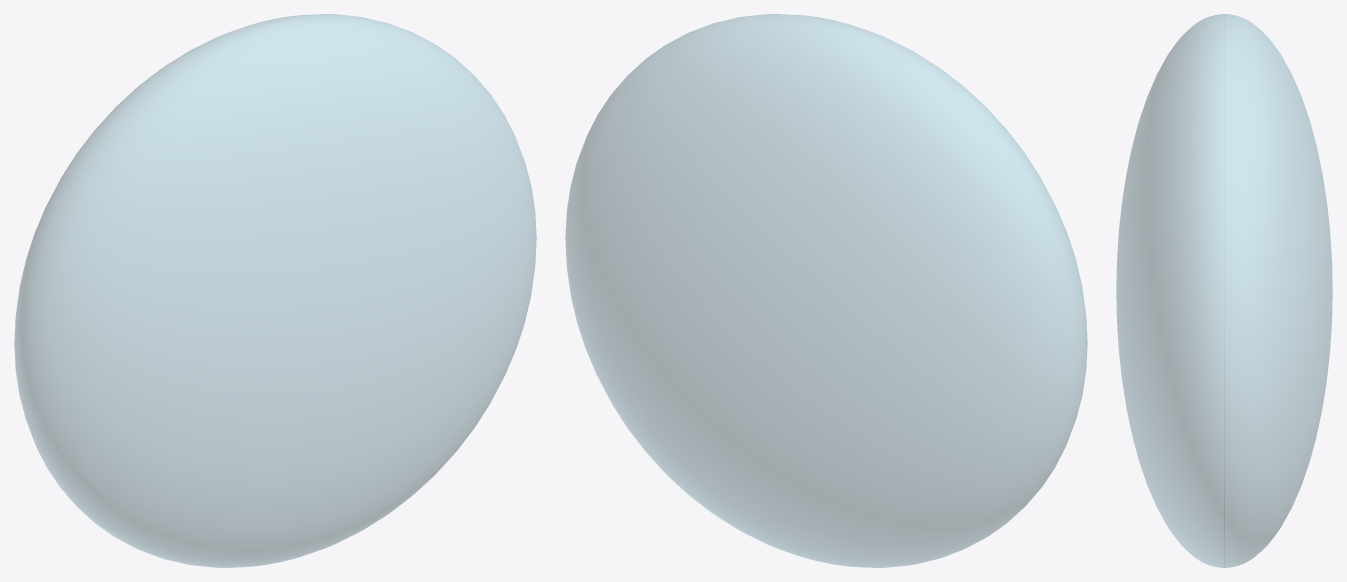
3 renders of one model, left to right at view 1: azimuth 30°, elevation 25°; view 2: azimuth 150°, elevation 25°; view 3: azimuth 270°, elevation 25°, orthographic. The views are drawn at different scales.
Visible parts, largest first — view 1: gel-body; view 2: gel-body; view 3: gel-body.
Part boxes in pixels (bbox=[...]): gel-body: bbox=[14, 14, 536, 567]; gel-body: bbox=[565, 14, 1087, 567]; gel-body: bbox=[1116, 14, 1332, 567].
Size of the model in its own units: 1.64 by 1.64 by 0.64.
